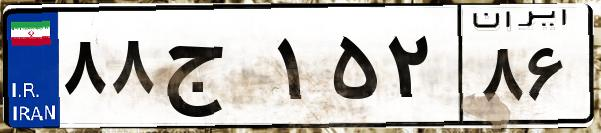1: (270, 28, 330, 110)
2: (385, 28, 445, 110)
5: (330, 28, 385, 110)
6: (525, 38, 570, 115)
8: (57, 26, 110, 100), (475, 38, 525, 113), (110, 28, 158, 98)
ج: (158, 20, 270, 120)
